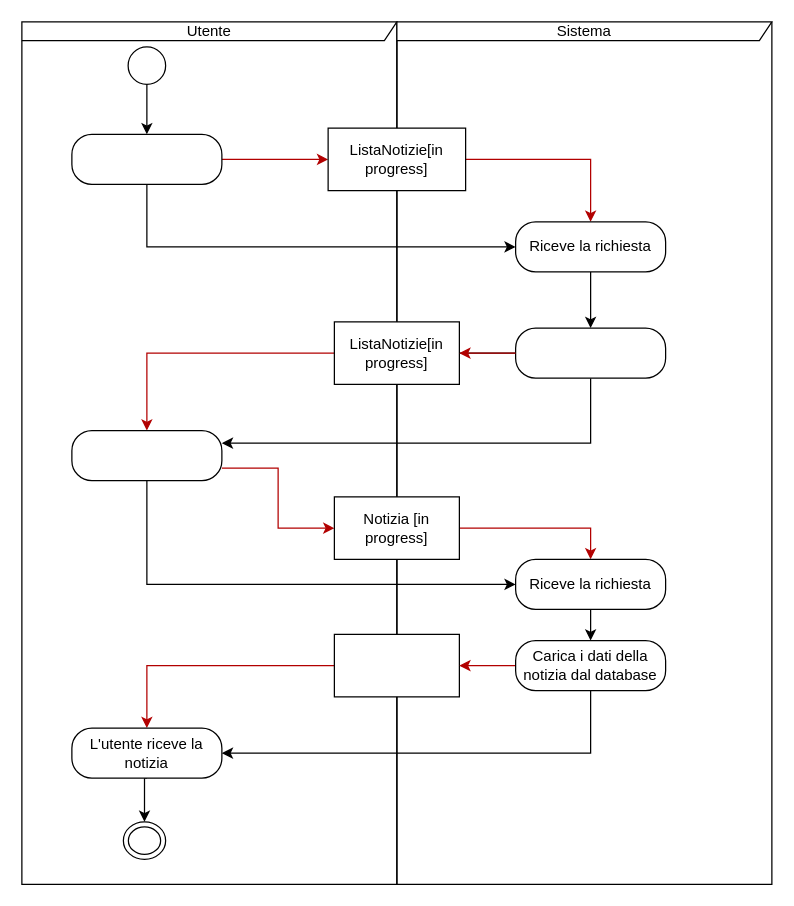
This 794x906 diagram has some shape labels left out. Here are the shapes that lost their labels. From the top down, the centre of each, then its label:
At point (146, 158): "Accede all'appicazione".
At point (590, 352): "Carica le notizie dal database".
At point (146, 455): "Sceglie la notizia di suo interesse".
At point (396, 665): "Notizia [completed]".
